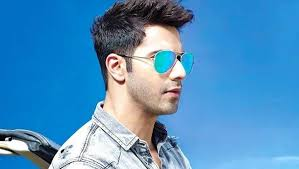Indian_Male: (123, 11, 191, 113)
